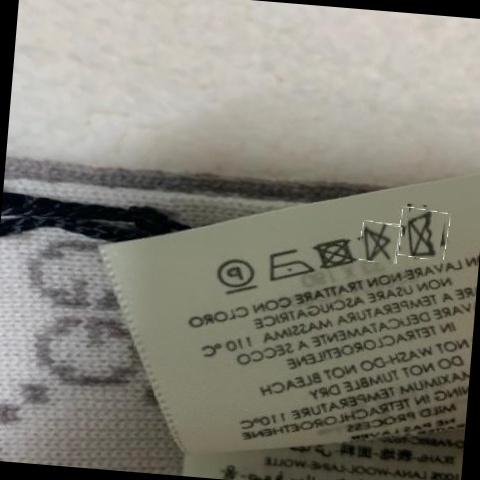DN_bleach: (358, 219, 395, 266)
DN_tumble_dry: (311, 234, 357, 273)
DN_wash: (402, 207, 446, 263)
dry_clean_any_solvent_except_trichloroethylene: (214, 253, 261, 297)
iron_low: (260, 244, 313, 284)
